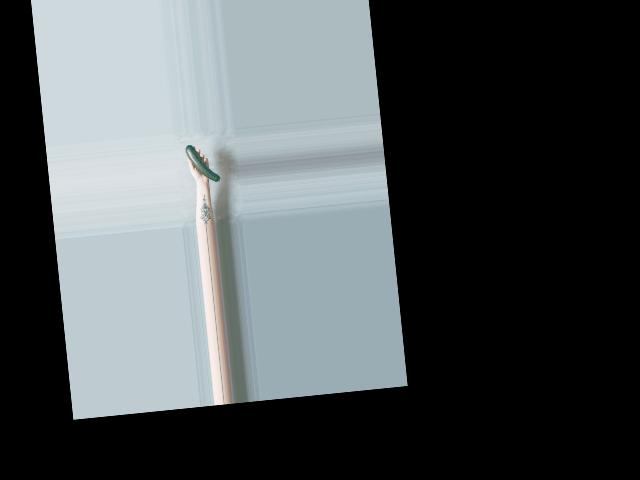cucumber: (185, 141, 220, 184)
